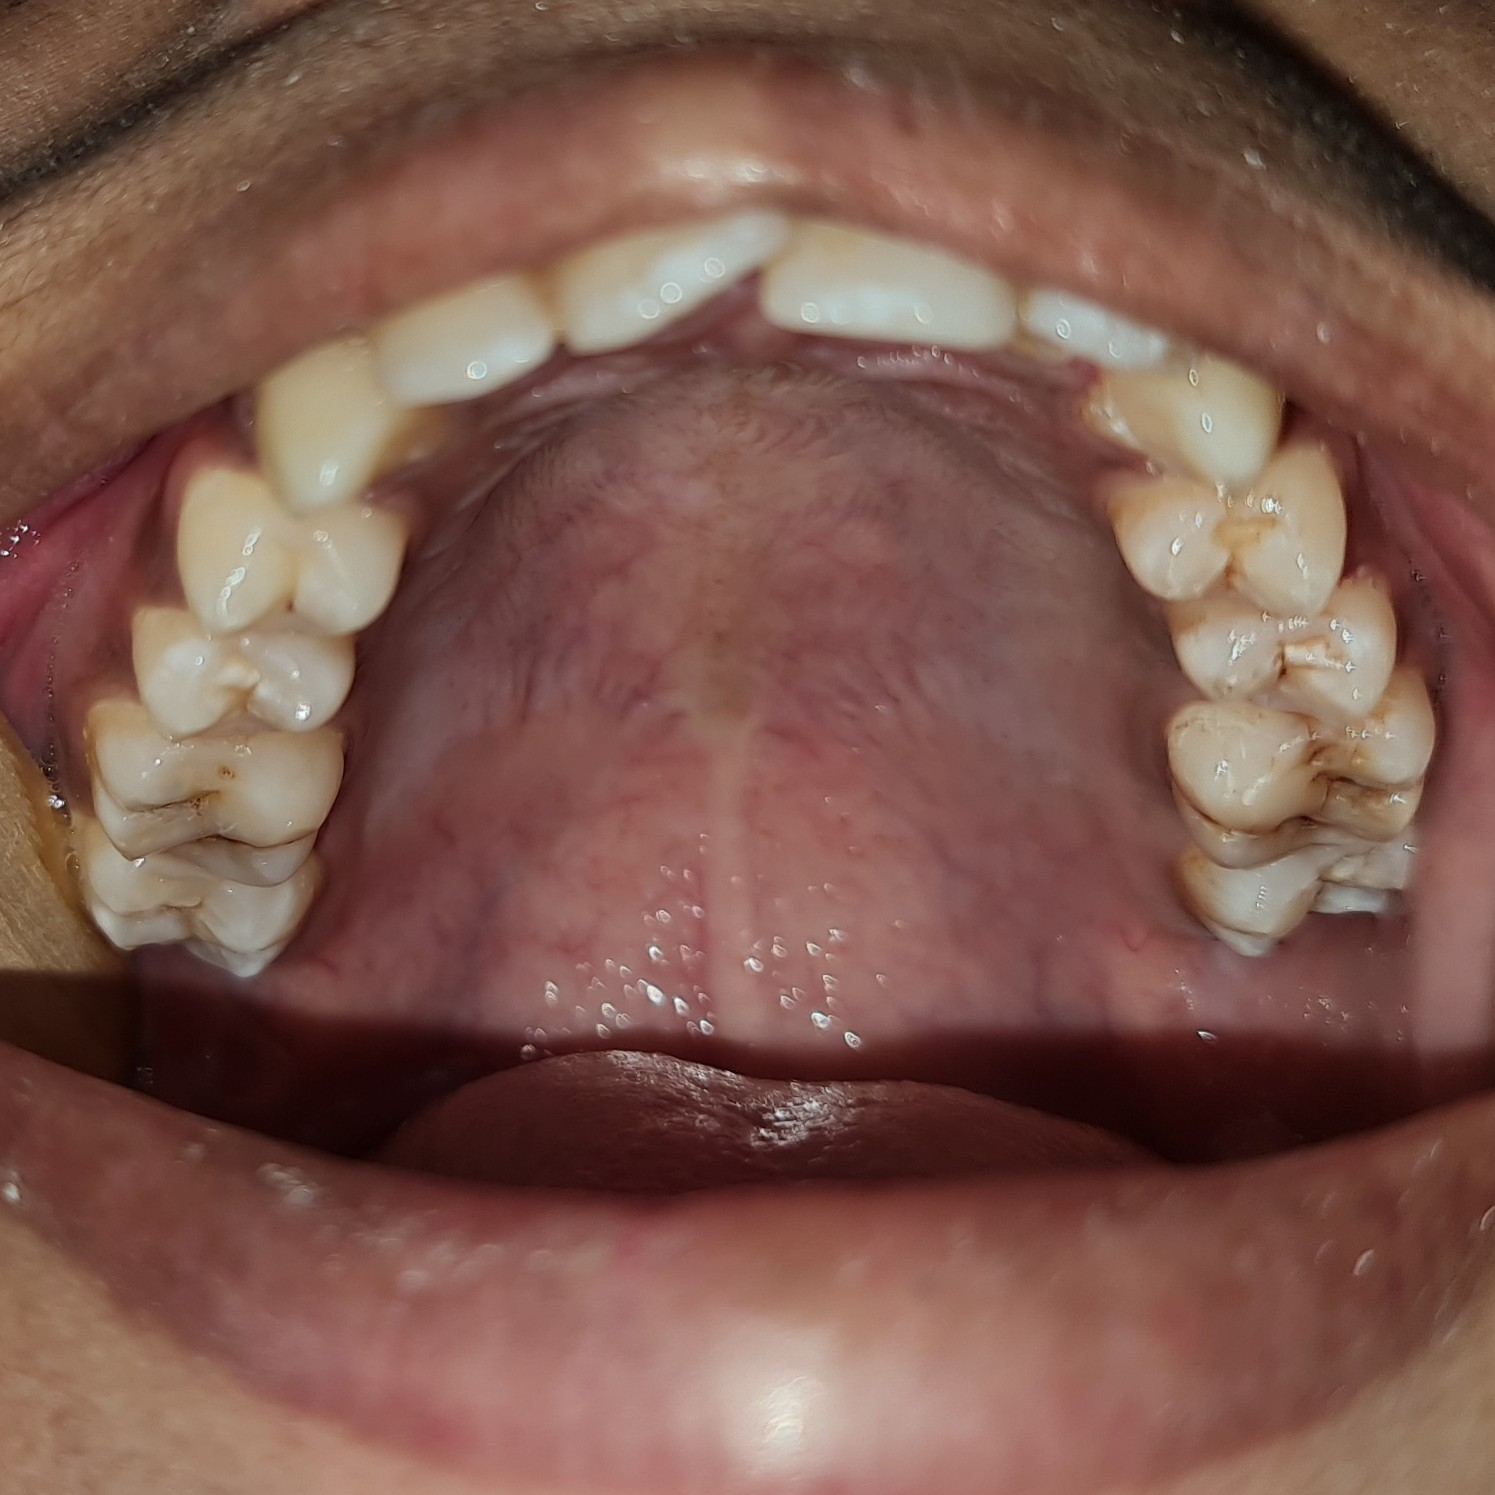D: (78, 684, 344, 891), (1167, 693, 1444, 862), (1166, 571, 1401, 710)
